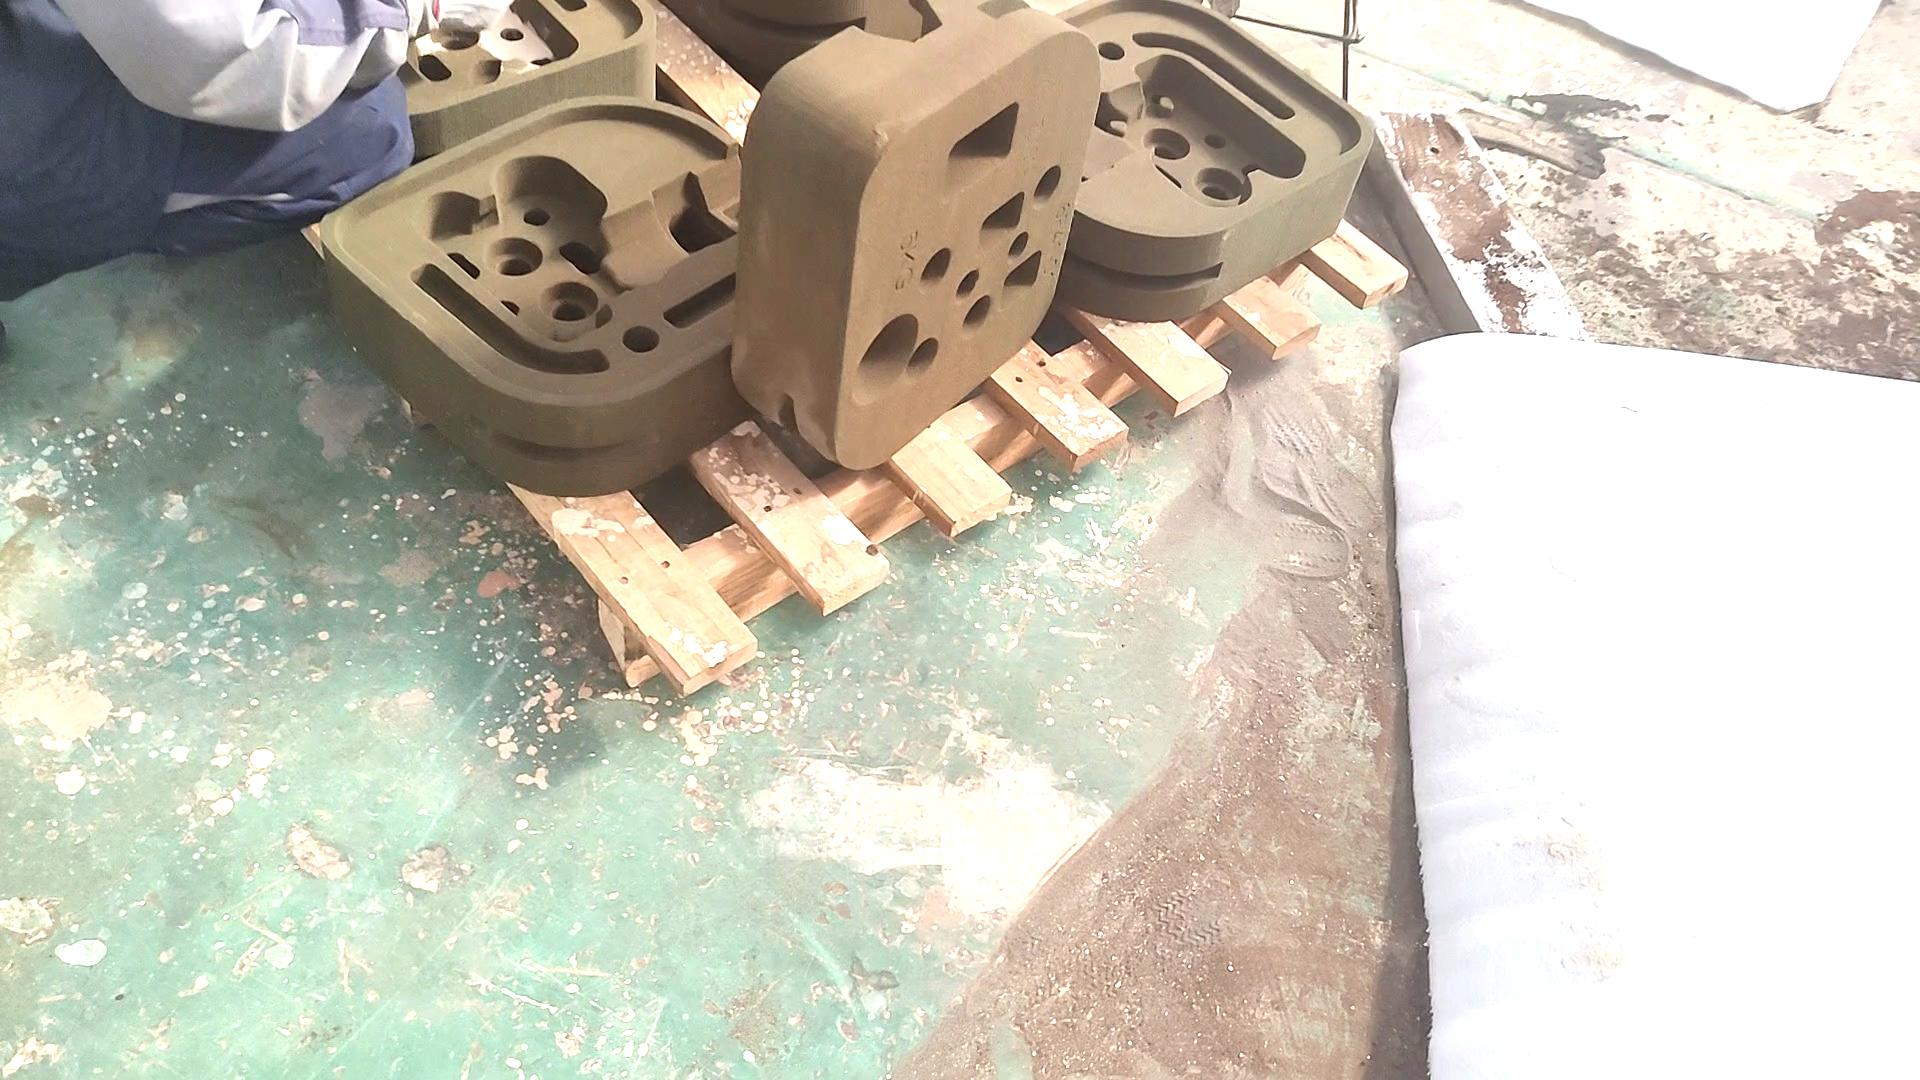pouring hole: (851, 314, 919, 404)
